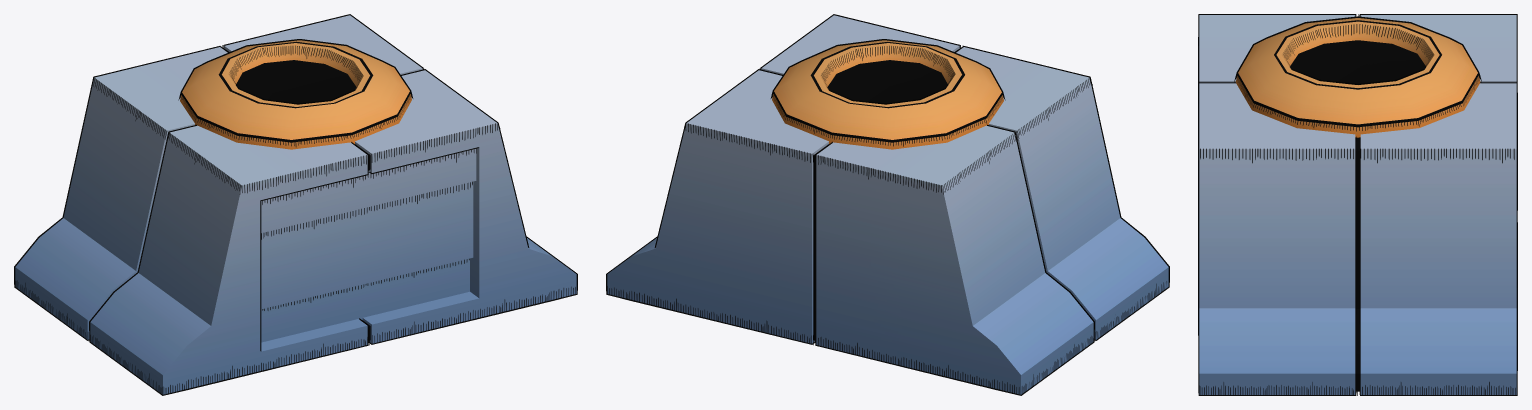
Rendered from sci-fi-battery.glb.
The picture shows the model from 3 angles, left to right: view 1: azimuth 30°, elevation 25°; view 2: azimuth 150°, elevation 25°; view 3: azimuth 270°, elevation 25°; orthographic projection. The views are drawn at different scales.
Visible parts, largest first — view 1: SciFi_Battery; view 2: SciFi_Battery; view 3: SciFi_Battery.
Part boxes in pixels (x1=…): SciFi_Battery: x1=14, y1=14, x2=577, y2=395; SciFi_Battery: x1=606, y1=14, x2=1169, y2=395; SciFi_Battery: x1=1198, y1=14, x2=1517, y2=395.
Bounding box in the file's own units: 1.45 × 0.7234 × 0.8976.
3 materials, 2 textured.
